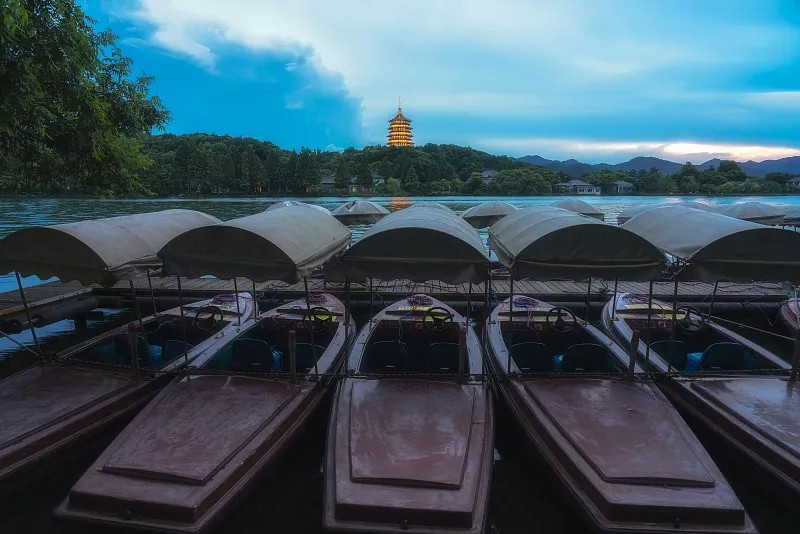Leifeng: (387, 98, 414, 150)
